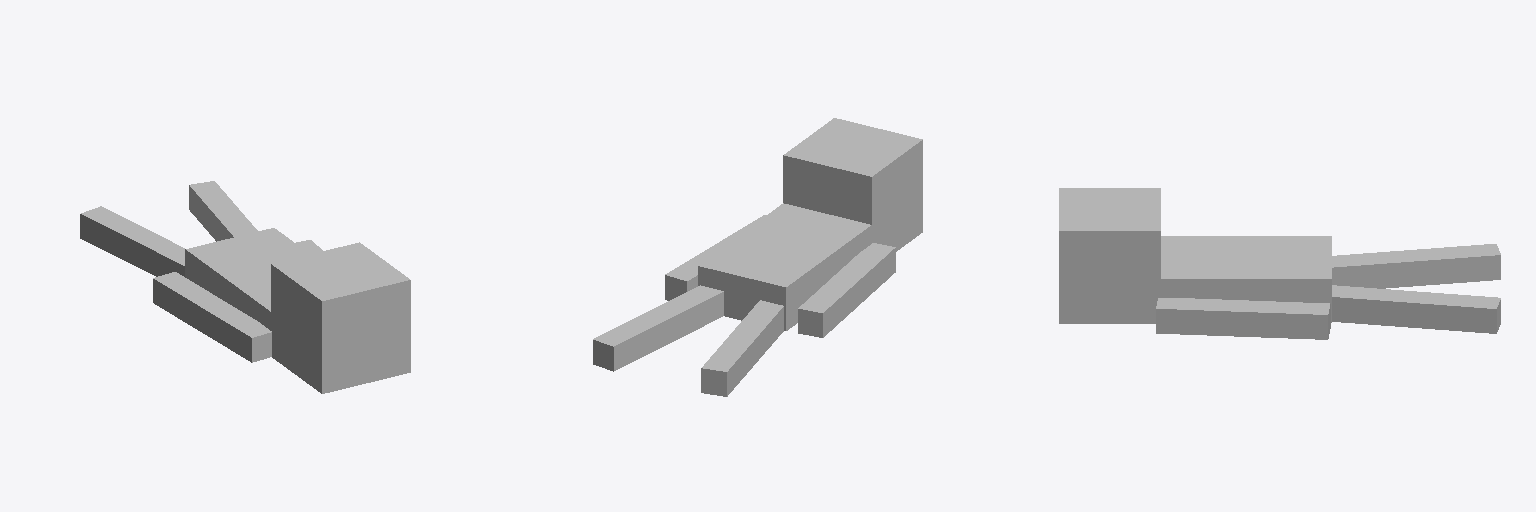
The model's file is decoblocks_old_skeleton2.obj.
3 renders of one model, left to right at view 1: azimuth 30°, elevation 25°; view 2: azimuth 150°, elevation 25°; view 3: azimuth 270°, elevation 25°, orthographic.
Parts seen in each view (by area): view 1: Player_Cube; view 2: Player_Cube; view 3: Player_Cube.
Boxes of the visible parts, x1,y1,x2,y2 form: Player_Cube: [80, 181, 410, 393]; Player_Cube: [593, 118, 922, 396]; Player_Cube: [1059, 188, 1500, 339].
Bounding box in the file's own units: 1.64 × 0.9221 × 3.99.